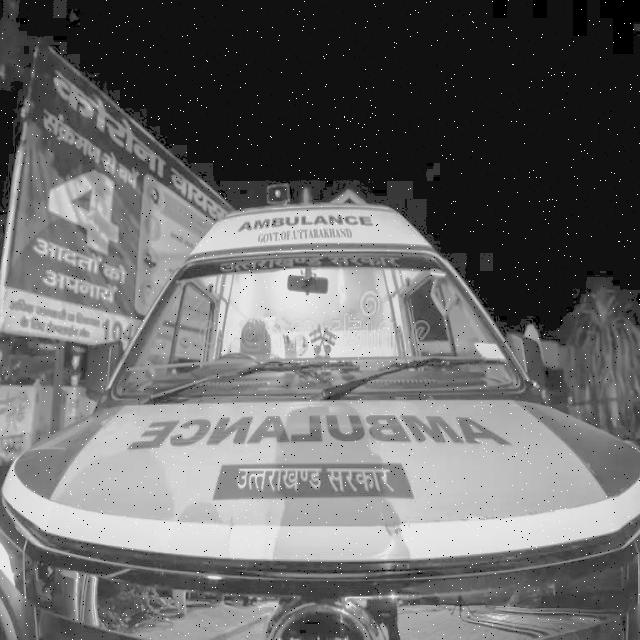Ambulance: (128, 406, 544, 462), (230, 208, 394, 252)
